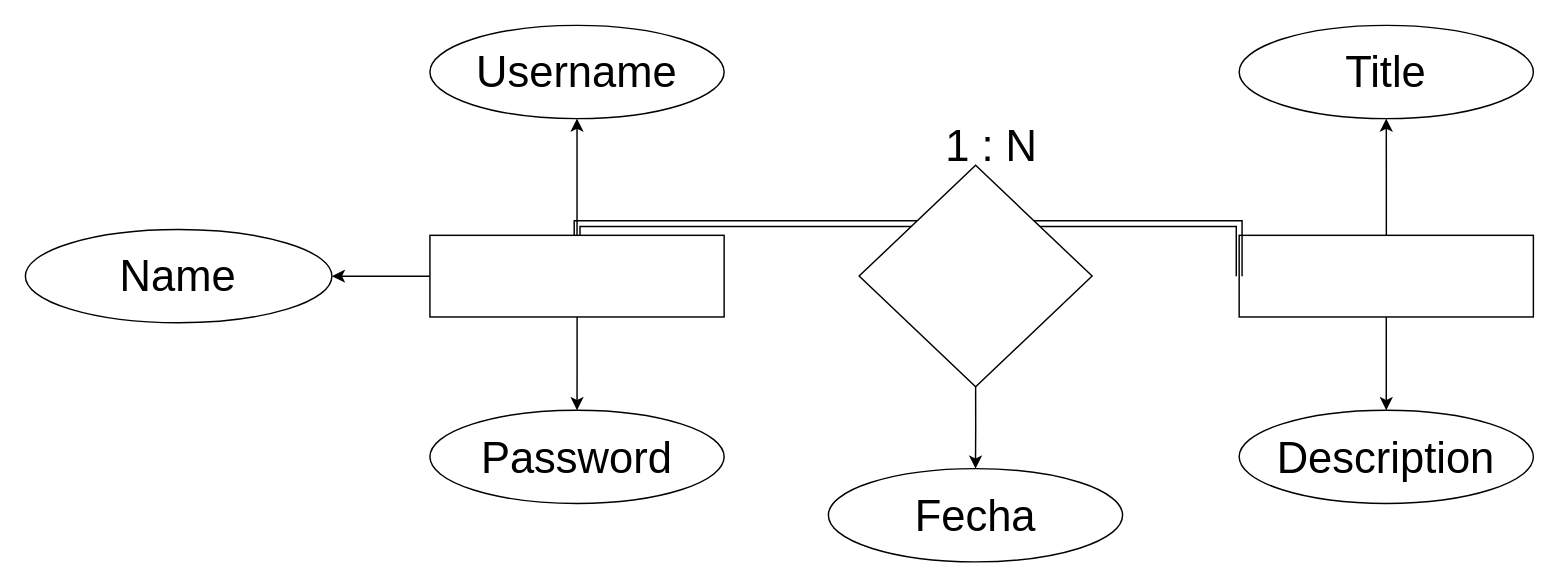
The diagram is 1559 pixels wide and 587 high, and some of its shapes have lost their labels. Each missing label, with the centre of its shape:
Have: the point at 975,275
Task: the point at 1385,275
User: the point at 576,275
